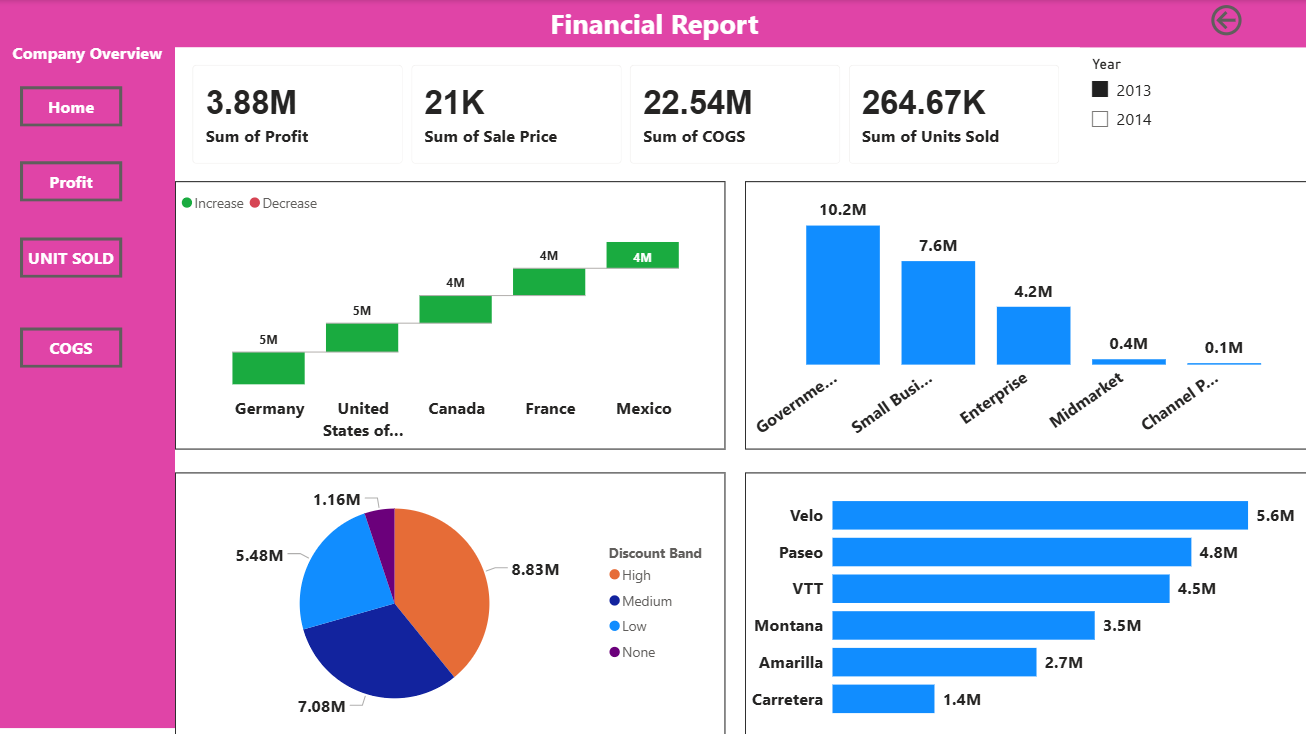

This screenshot's page, from the dashboard's own definition file:
{"tool":"powerbi","page":{"name":"Profit","canvas":[1280,720],"ordinal":1},"visuals":[{"type":"textbox","box":[0,0,1280.2,46.5],"z":0},{"type":"textbox","box":[0,34.9,170.9,676.7],"z":1000},{"type":"actionButton","box":[19.8,84.9,100,39.5],"z":2000},{"type":"actionButton","box":[19.8,158.1,100,39.5],"z":3000},{"type":"actionButton","box":[18.6,232.6,100,39.5],"z":4000},{"type":"actionButton","box":[18.6,301.2,100,39.5],"z":5000},{"type":"pieChart","fields":{"Category":["financials.Discount Band"],"Y":["Sum(financials.Profit)"]},"box":[170.9,462.8,538.4,257],"z":6000},{"type":"cardVisual","fields":{"Data":["Sum(financials.Profit)","Sum(financials.Sale Price)","Sum(financials.COGS)","Sum(financials.Units Sold)"]},"box":[170.9,46.5,884.9,131.4],"z":8000},{"type":"slicer","fields":{"Values":["financials.Date.Variation.Date Hierarchy.Year"]},"box":[1055.8,48.8,224.4,129.1],"z":9000},{"type":"waterfallChart","fields":{"Category":["financials.Country"],"Y":["Sum(financials.Profit)"]},"box":[170.9,177.9,538.4,262.8],"z":10000},{"type":"clusteredColumnChart","fields":{"Y":["Sum(financials.Profit)"],"Category":["financials.Segment"]},"box":[729.1,177.9,551.2,262.8],"z":11000},{"type":"barChart","fields":{"Category":["financials.Product"],"Y":["Sum(financials.Profit)"]},"box":[729.1,462.8,551.2,257],"z":12000}]}

Visuals, with their boxes in screenshot pixels (x1, y1, x2, y2), scaled from the page's 1280x720 canvas onto the 1306x734 screenshot:
textbox: detection(0, 0, 1305, 47)
textbox: detection(0, 36, 174, 725)
actionButton: detection(20, 87, 122, 127)
actionButton: detection(20, 161, 122, 201)
actionButton: detection(19, 237, 121, 277)
actionButton: detection(19, 307, 121, 347)
pieChart - financials.Discount Band x Sum(financials.Profit): detection(174, 472, 724, 733)
cardVisual - Sum(financials.Profit) x Sum(financials.Sale Price): detection(174, 47, 1077, 181)
slicer - financials.Date.Variation.Date Hierarchy.Year: detection(1077, 50, 1305, 181)
waterfallChart - financials.Country x Sum(financials.Profit): detection(174, 181, 724, 449)
clusteredColumnChart - Sum(financials.Profit) x financials.Segment: detection(744, 181, 1305, 449)
barChart - financials.Product x Sum(financials.Profit): detection(744, 472, 1305, 733)
